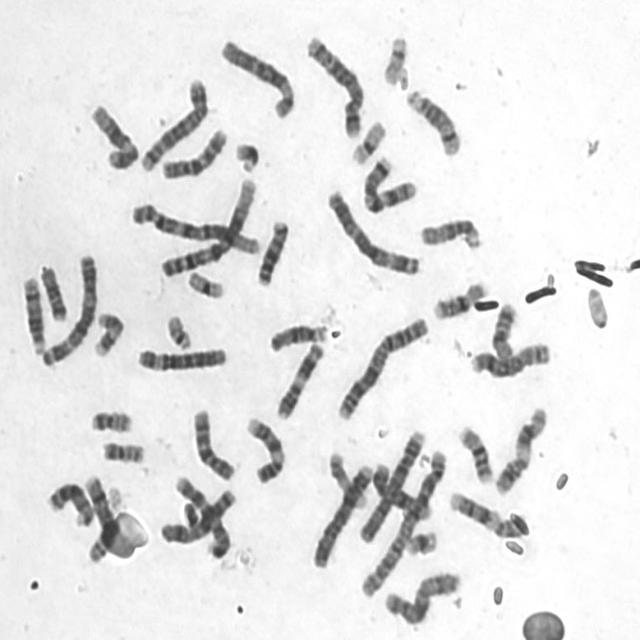A1: (156, 172, 260, 280), (129, 196, 263, 257)
A2: (358, 443, 450, 600), (334, 310, 432, 422)
A3: (323, 183, 424, 277), (38, 246, 100, 368)
B4: (354, 422, 429, 545), (308, 456, 376, 570)
B5: (136, 70, 212, 173), (303, 28, 368, 140)
C10: (157, 121, 231, 181), (189, 402, 238, 482)
C11: (492, 401, 550, 496), (272, 336, 327, 422)
C12: (369, 456, 435, 522), (86, 97, 142, 172)
C6: (217, 32, 299, 120), (132, 340, 229, 374)
C7: (171, 471, 233, 560), (358, 149, 421, 216)
C8: (81, 470, 129, 563), (467, 335, 554, 380)
C9: (445, 485, 531, 539), (242, 410, 288, 484)
D13: (43, 476, 97, 529), (254, 214, 292, 288)
D14: (403, 83, 465, 157), (18, 270, 49, 355)
D15: (418, 211, 486, 252), (266, 318, 331, 353)
E16: (429, 274, 492, 321), (455, 419, 497, 486)
E17: (324, 445, 370, 510), (90, 306, 128, 359)
E18: (36, 258, 70, 324), (488, 297, 520, 362)
F19: (346, 114, 388, 166), (183, 264, 228, 301)
F20: (86, 404, 136, 435), (98, 435, 148, 465)
G21: (402, 524, 440, 559), (231, 136, 263, 174)
G22: (378, 29, 412, 88), (162, 309, 195, 352)
X: (156, 482, 238, 547), (381, 566, 464, 627)
